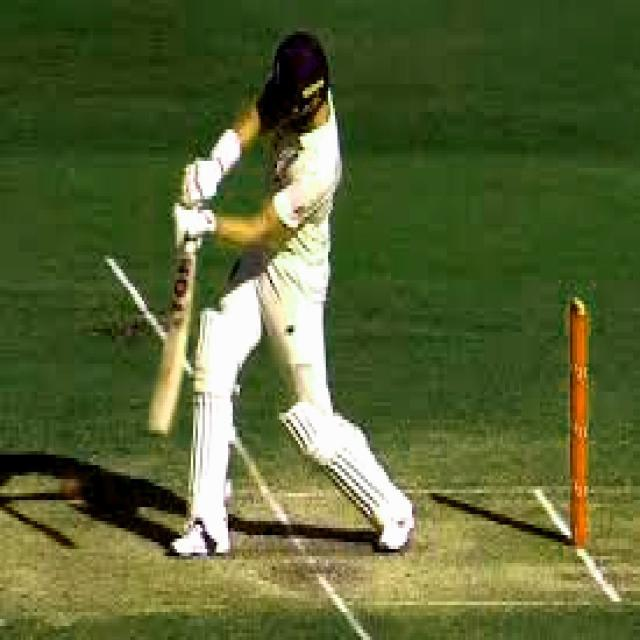bat: (146, 240, 206, 443)
toe: (143, 422, 173, 437)
